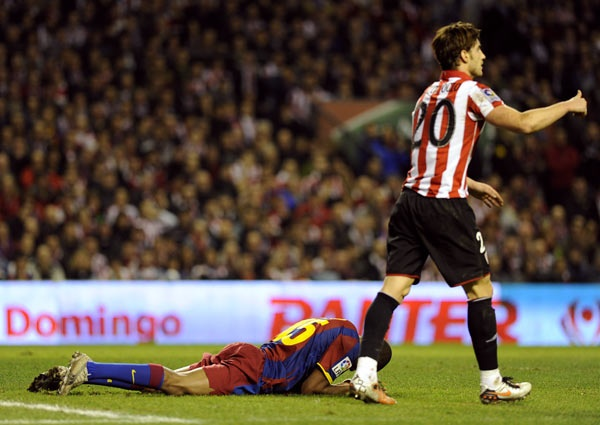falling: (33, 299, 385, 404)
